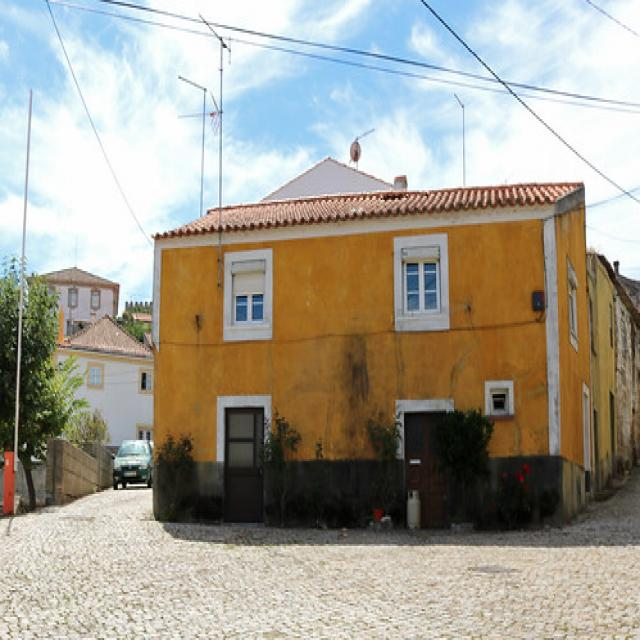Normal_building: (146, 156, 604, 534)
